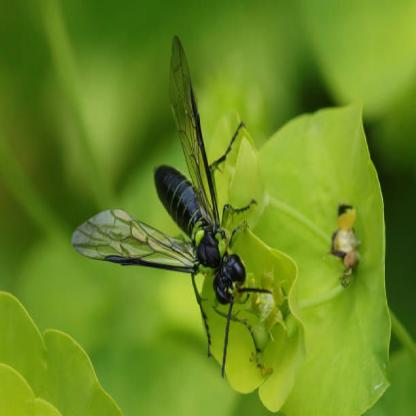sawfly: (73, 36, 281, 375)
